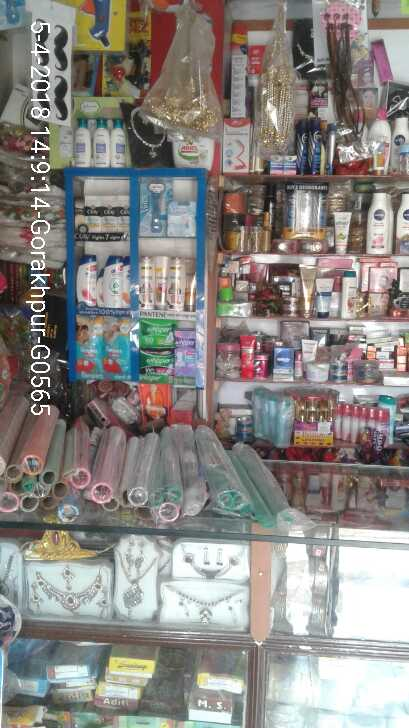venus: (141, 177, 168, 236), (171, 201, 195, 237)
